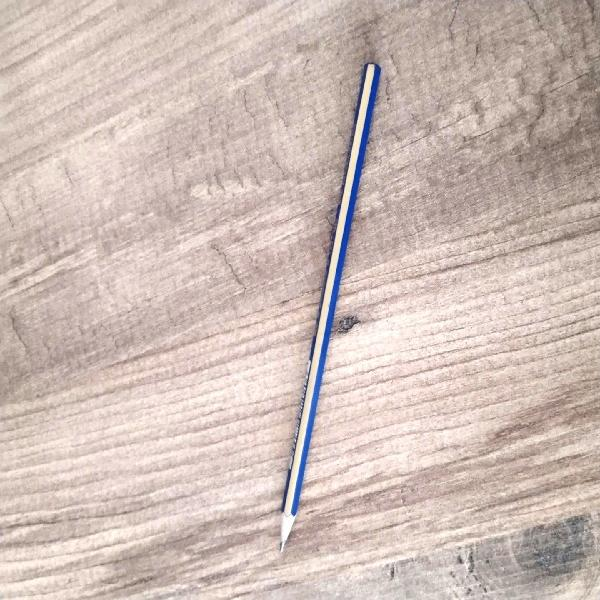pencil: (274, 60, 385, 553)
